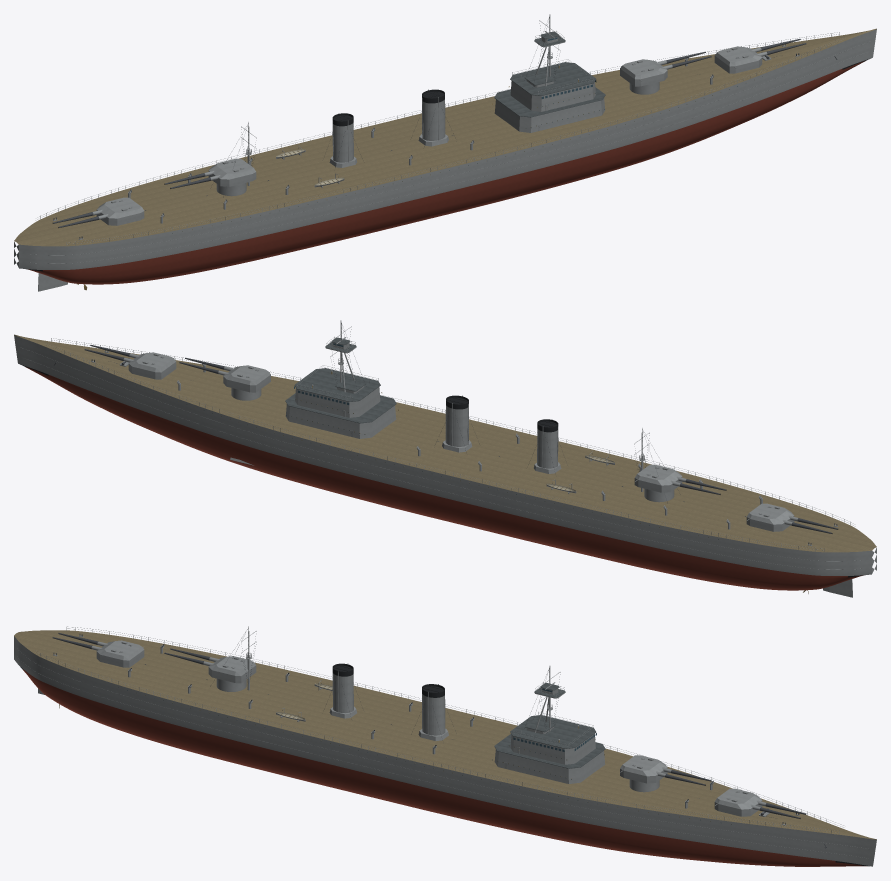
File: fallback-bc.glb
The picture shows the model from 3 angles, top to bottom: view 1: azimuth 30°, elevation 25°; view 2: azimuth 150°, elevation 25°; view 3: azimuth 330°, elevation 25°; orthographic projection.
Visible parts, largest first — view 1: Original BC custom-design concept; view 2: Original BC custom-design concept; view 3: Original BC custom-design concept.
Part boxes in pixels (left/top/right/bottom): Original BC custom-design concept: left=14, top=14, right=876, bottom=291; Original BC custom-design concept: left=14, top=320, right=876, bottom=597; Original BC custom-design concept: left=14, top=626, right=876, bottom=866.
Size of the model in its own units: 238 by 41 by 30.09.
Materials: 9 (8 with a texture image).
